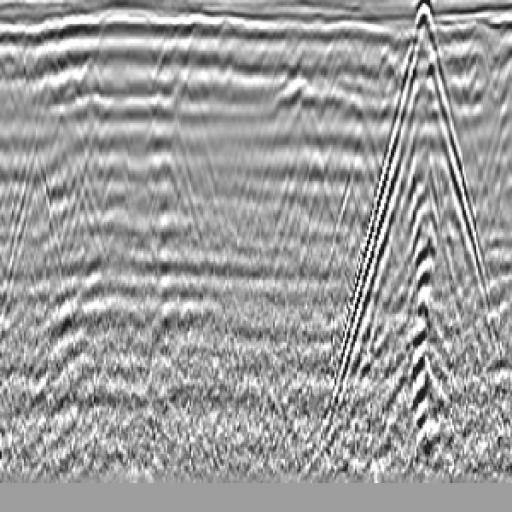non-metallic: (332, 1, 512, 416)
